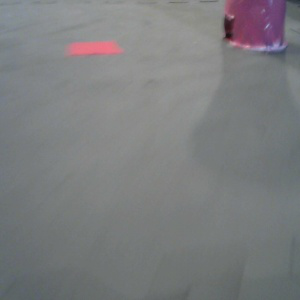right: (215, 1, 293, 57)
